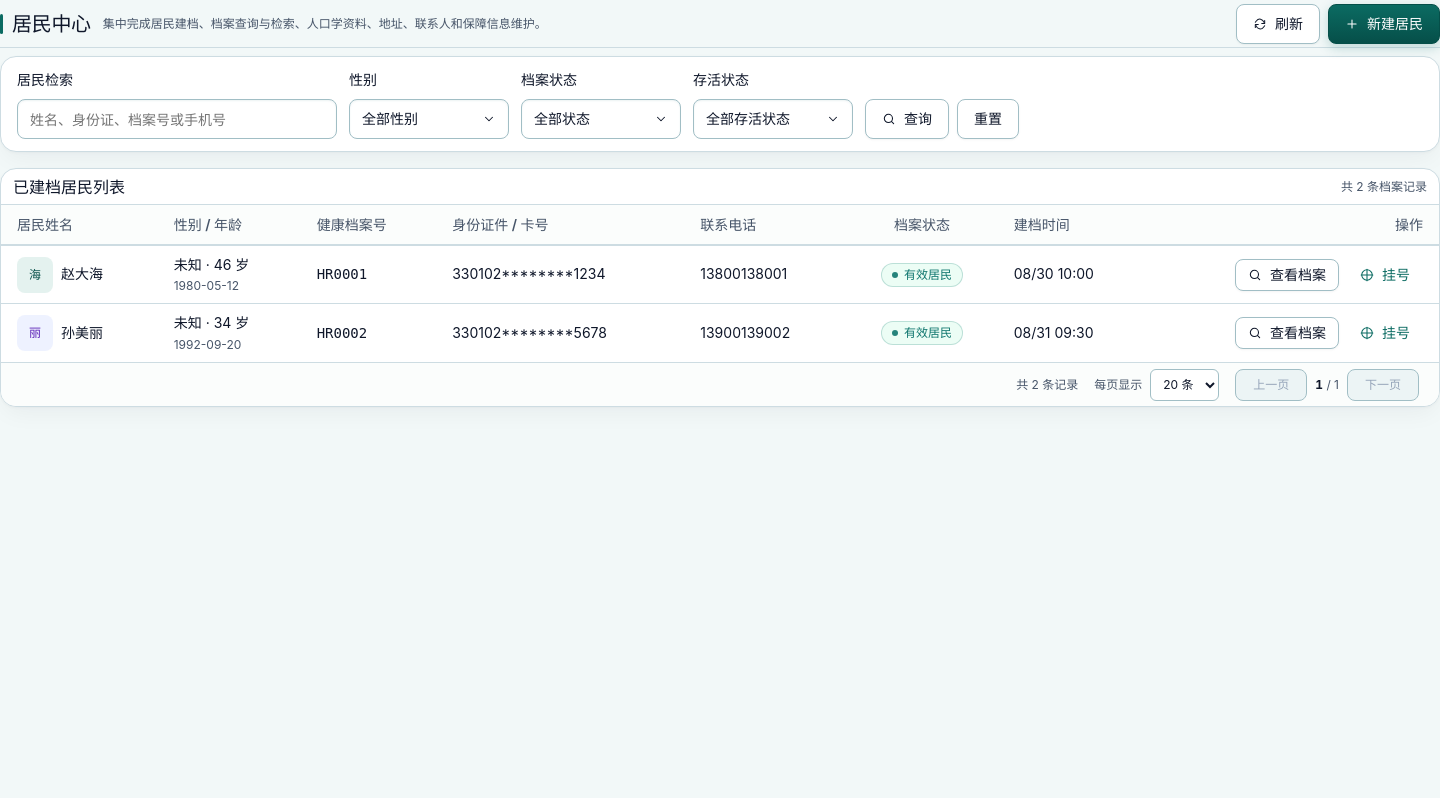
ResidentCenterWorkspace › uses current profile status MERGED instead of claiming an effective resident
Step 1. Click the button "查看档案" in the row of "赵大海" → (1287, 275), box [1235, 259, 1339, 291]
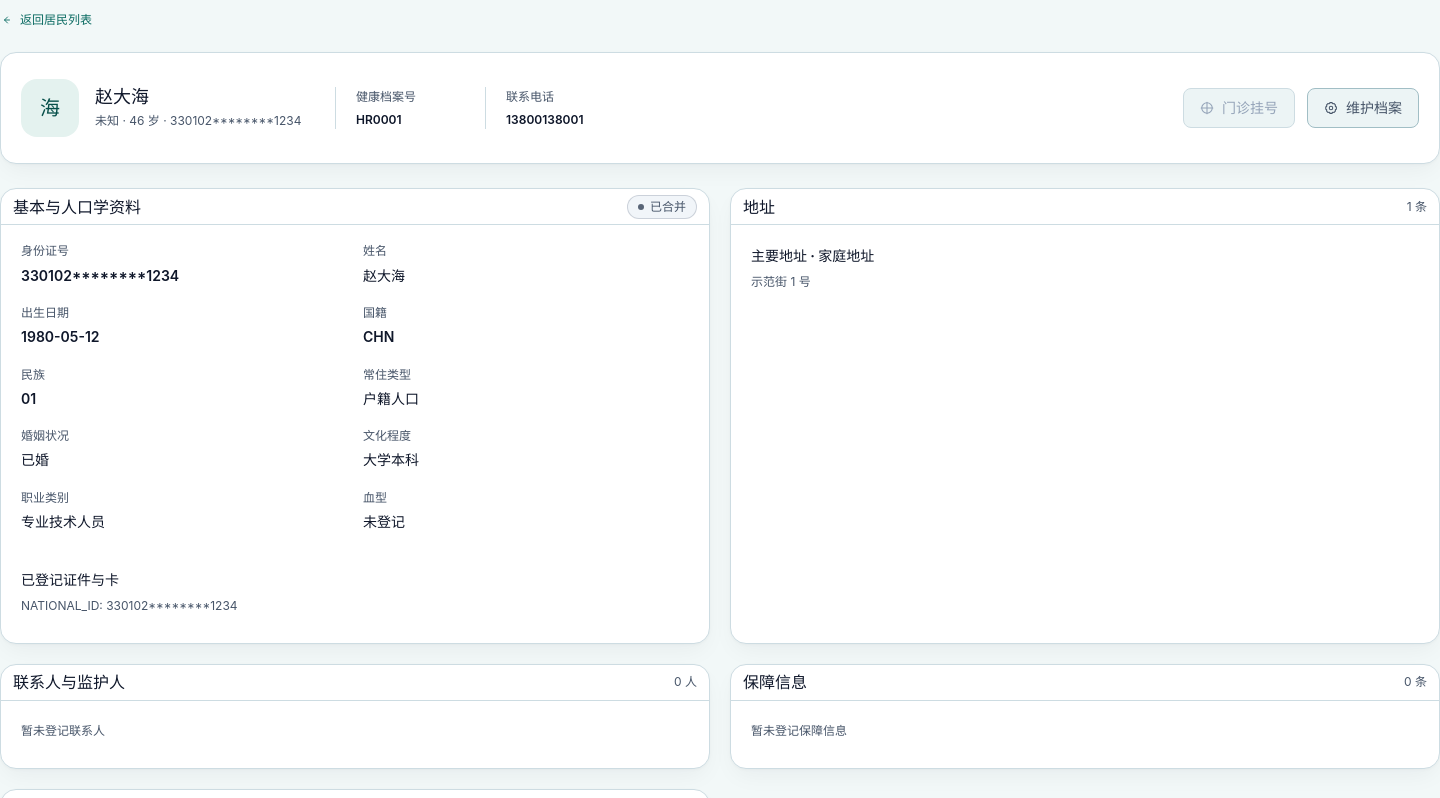
Now the text "已合并" is shown, box [627, 195, 697, 219]
Now the text "有效居民" is gone
Now the button "门诊挂号" is disabled, box [1183, 88, 1295, 128]
